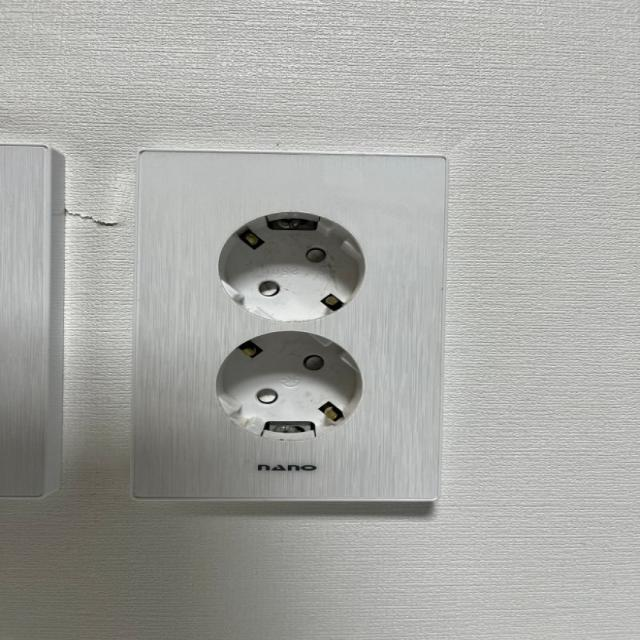typeb: (100, 123, 514, 571)
